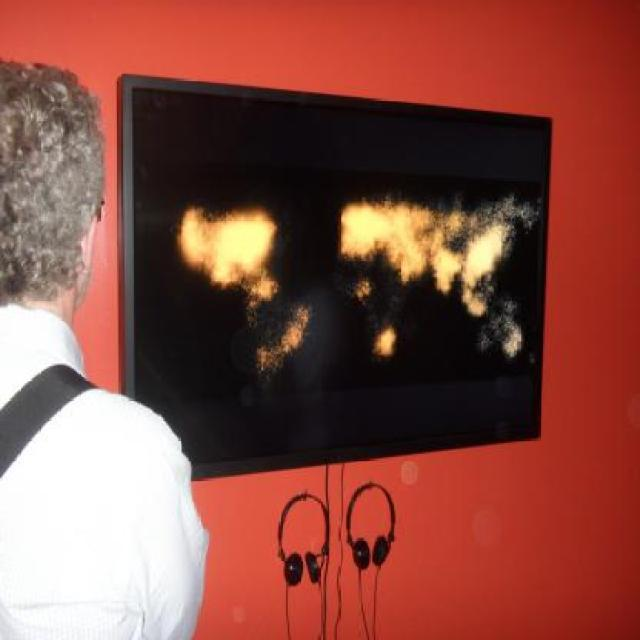earphone: (347, 468, 413, 595), (288, 468, 340, 600)
